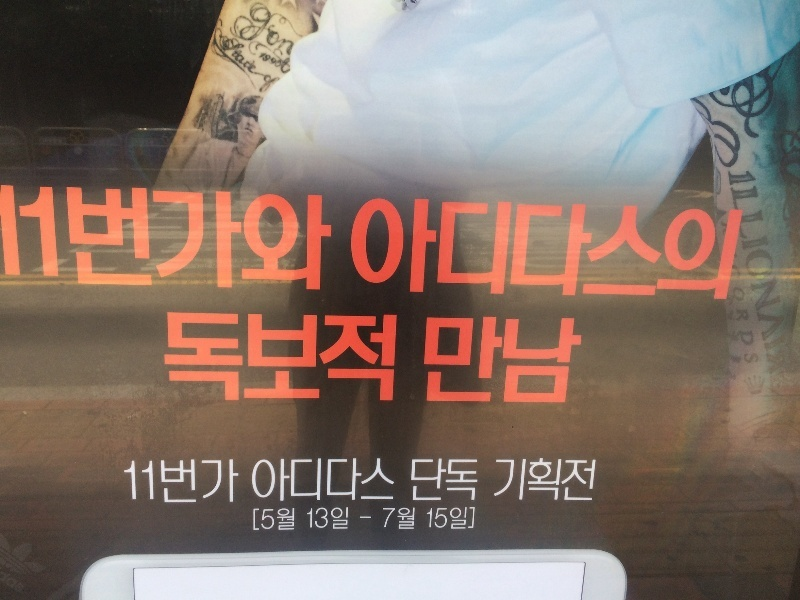text: (769, 170, 784, 376), (721, 175, 736, 372), (737, 175, 752, 372), (756, 170, 768, 376), (785, 170, 794, 376), (753, 175, 762, 372), (353, 196, 368, 305), (369, 196, 384, 305), (385, 196, 400, 305), (401, 196, 416, 305), (417, 196, 432, 305), (433, 196, 448, 305), (449, 196, 464, 305), (465, 196, 480, 305), (481, 196, 496, 305), (497, 196, 512, 305), (513, 196, 528, 305), (529, 196, 544, 305), (545, 196, 560, 305), (561, 196, 576, 305), (577, 196, 592, 305), (593, 196, 608, 305), (609, 196, 624, 305), (625, 196, 640, 305), (641, 196, 656, 305), (657, 196, 672, 305), (673, 196, 688, 305), (689, 196, 704, 305), (705, 196, 720, 305), (721, 196, 736, 305), (1, 184, 16, 292), (17, 184, 32, 292), (33, 184, 48, 292), (49, 184, 64, 292), (65, 184, 80, 292), (81, 184, 96, 292), (97, 184, 112, 292), (113, 184, 128, 292), (129, 184, 144, 292), (145, 184, 160, 292), (161, 184, 176, 292), (177, 184, 192, 292), (193, 184, 208, 292), (209, 184, 224, 292), (225, 184, 240, 292), (241, 184, 256, 292), (257, 184, 272, 292), (273, 184, 288, 292), (289, 184, 304, 292), (305, 184, 320, 292), (385, 309, 401, 406), (177, 309, 192, 406), (193, 309, 208, 406), (209, 309, 224, 406), (225, 309, 240, 406), (241, 309, 256, 406), (257, 309, 272, 406), (273, 309, 288, 406), (289, 309, 304, 406), (305, 309, 320, 406), (321, 309, 336, 406), (337, 309, 352, 406), (353, 309, 368, 406), (369, 309, 384, 406), (433, 313, 448, 408), (449, 313, 464, 408), (465, 313, 480, 408), (481, 313, 496, 408), (497, 313, 512, 408), (513, 313, 528, 408), (529, 313, 544, 408), (545, 313, 560, 408), (561, 313, 576, 408), (321, 184, 334, 292), (164, 309, 176, 406), (737, 196, 747, 305), (577, 313, 586, 408), (129, 457, 144, 509), (145, 457, 160, 509), (161, 457, 176, 509), (177, 457, 192, 509), (193, 457, 208, 509), (209, 457, 224, 509), (225, 457, 240, 509), (424, 313, 432, 408), (497, 456, 512, 506), (513, 456, 528, 506), (529, 456, 544, 506), (545, 456, 560, 506), (561, 456, 576, 506), (577, 456, 592, 506), (417, 456, 432, 504), (433, 456, 448, 504), (449, 456, 464, 504), (465, 456, 480, 504), (257, 457, 272, 504), (273, 457, 288, 504), (289, 457, 304, 504), (305, 457, 320, 504), (321, 457, 336, 504), (337, 457, 352, 504), (353, 457, 368, 504), (369, 457, 384, 504), (385, 457, 396, 504), (385, 505, 400, 534), (401, 505, 416, 534), (257, 506, 272, 534), (273, 506, 288, 534), (433, 505, 448, 533), (449, 505, 464, 533), (321, 507, 336, 533), (306, 507, 320, 533), (337, 507, 351, 533), (122, 457, 128, 509), (465, 505, 476, 533), (593, 456, 599, 506), (411, 456, 416, 504), (251, 457, 256, 504), (350, 196, 352, 305), (289, 506, 296, 534), (426, 505, 432, 533), (252, 506, 256, 534), (241, 457, 243, 509), (494, 456, 496, 506), (381, 505, 384, 534), (358, 515, 368, 522), (369, 515, 373, 522)
